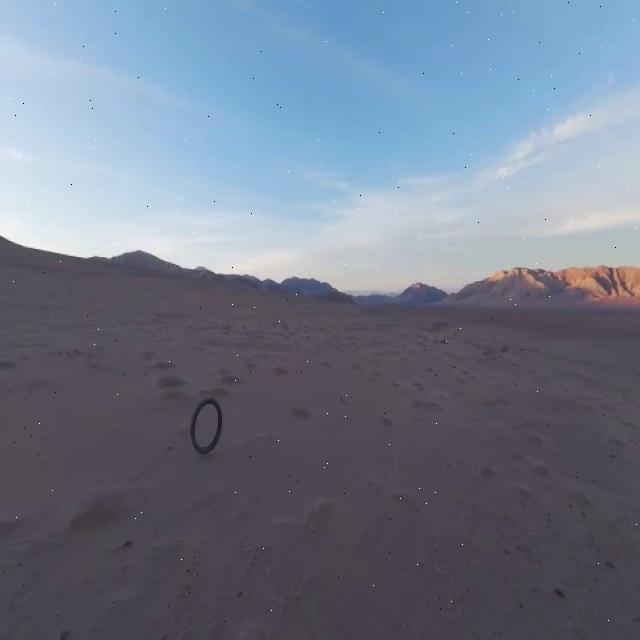Tire: (191, 398, 223, 454)
